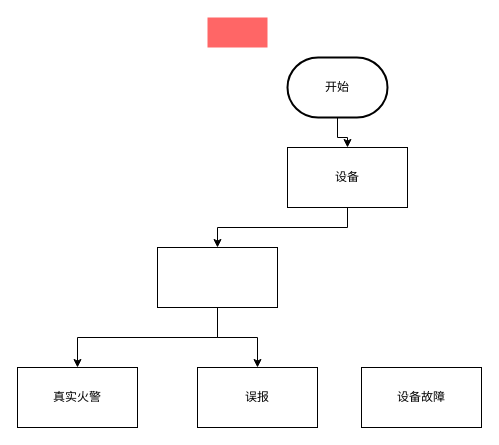
This 499x445 diagram has some shape labels left out. Here are the shapes that lost their labels. From the top down, the centre of each, then its label:
At (x=237, y=32): "报警处置".
At (x=217, y=277): "报警复核".
